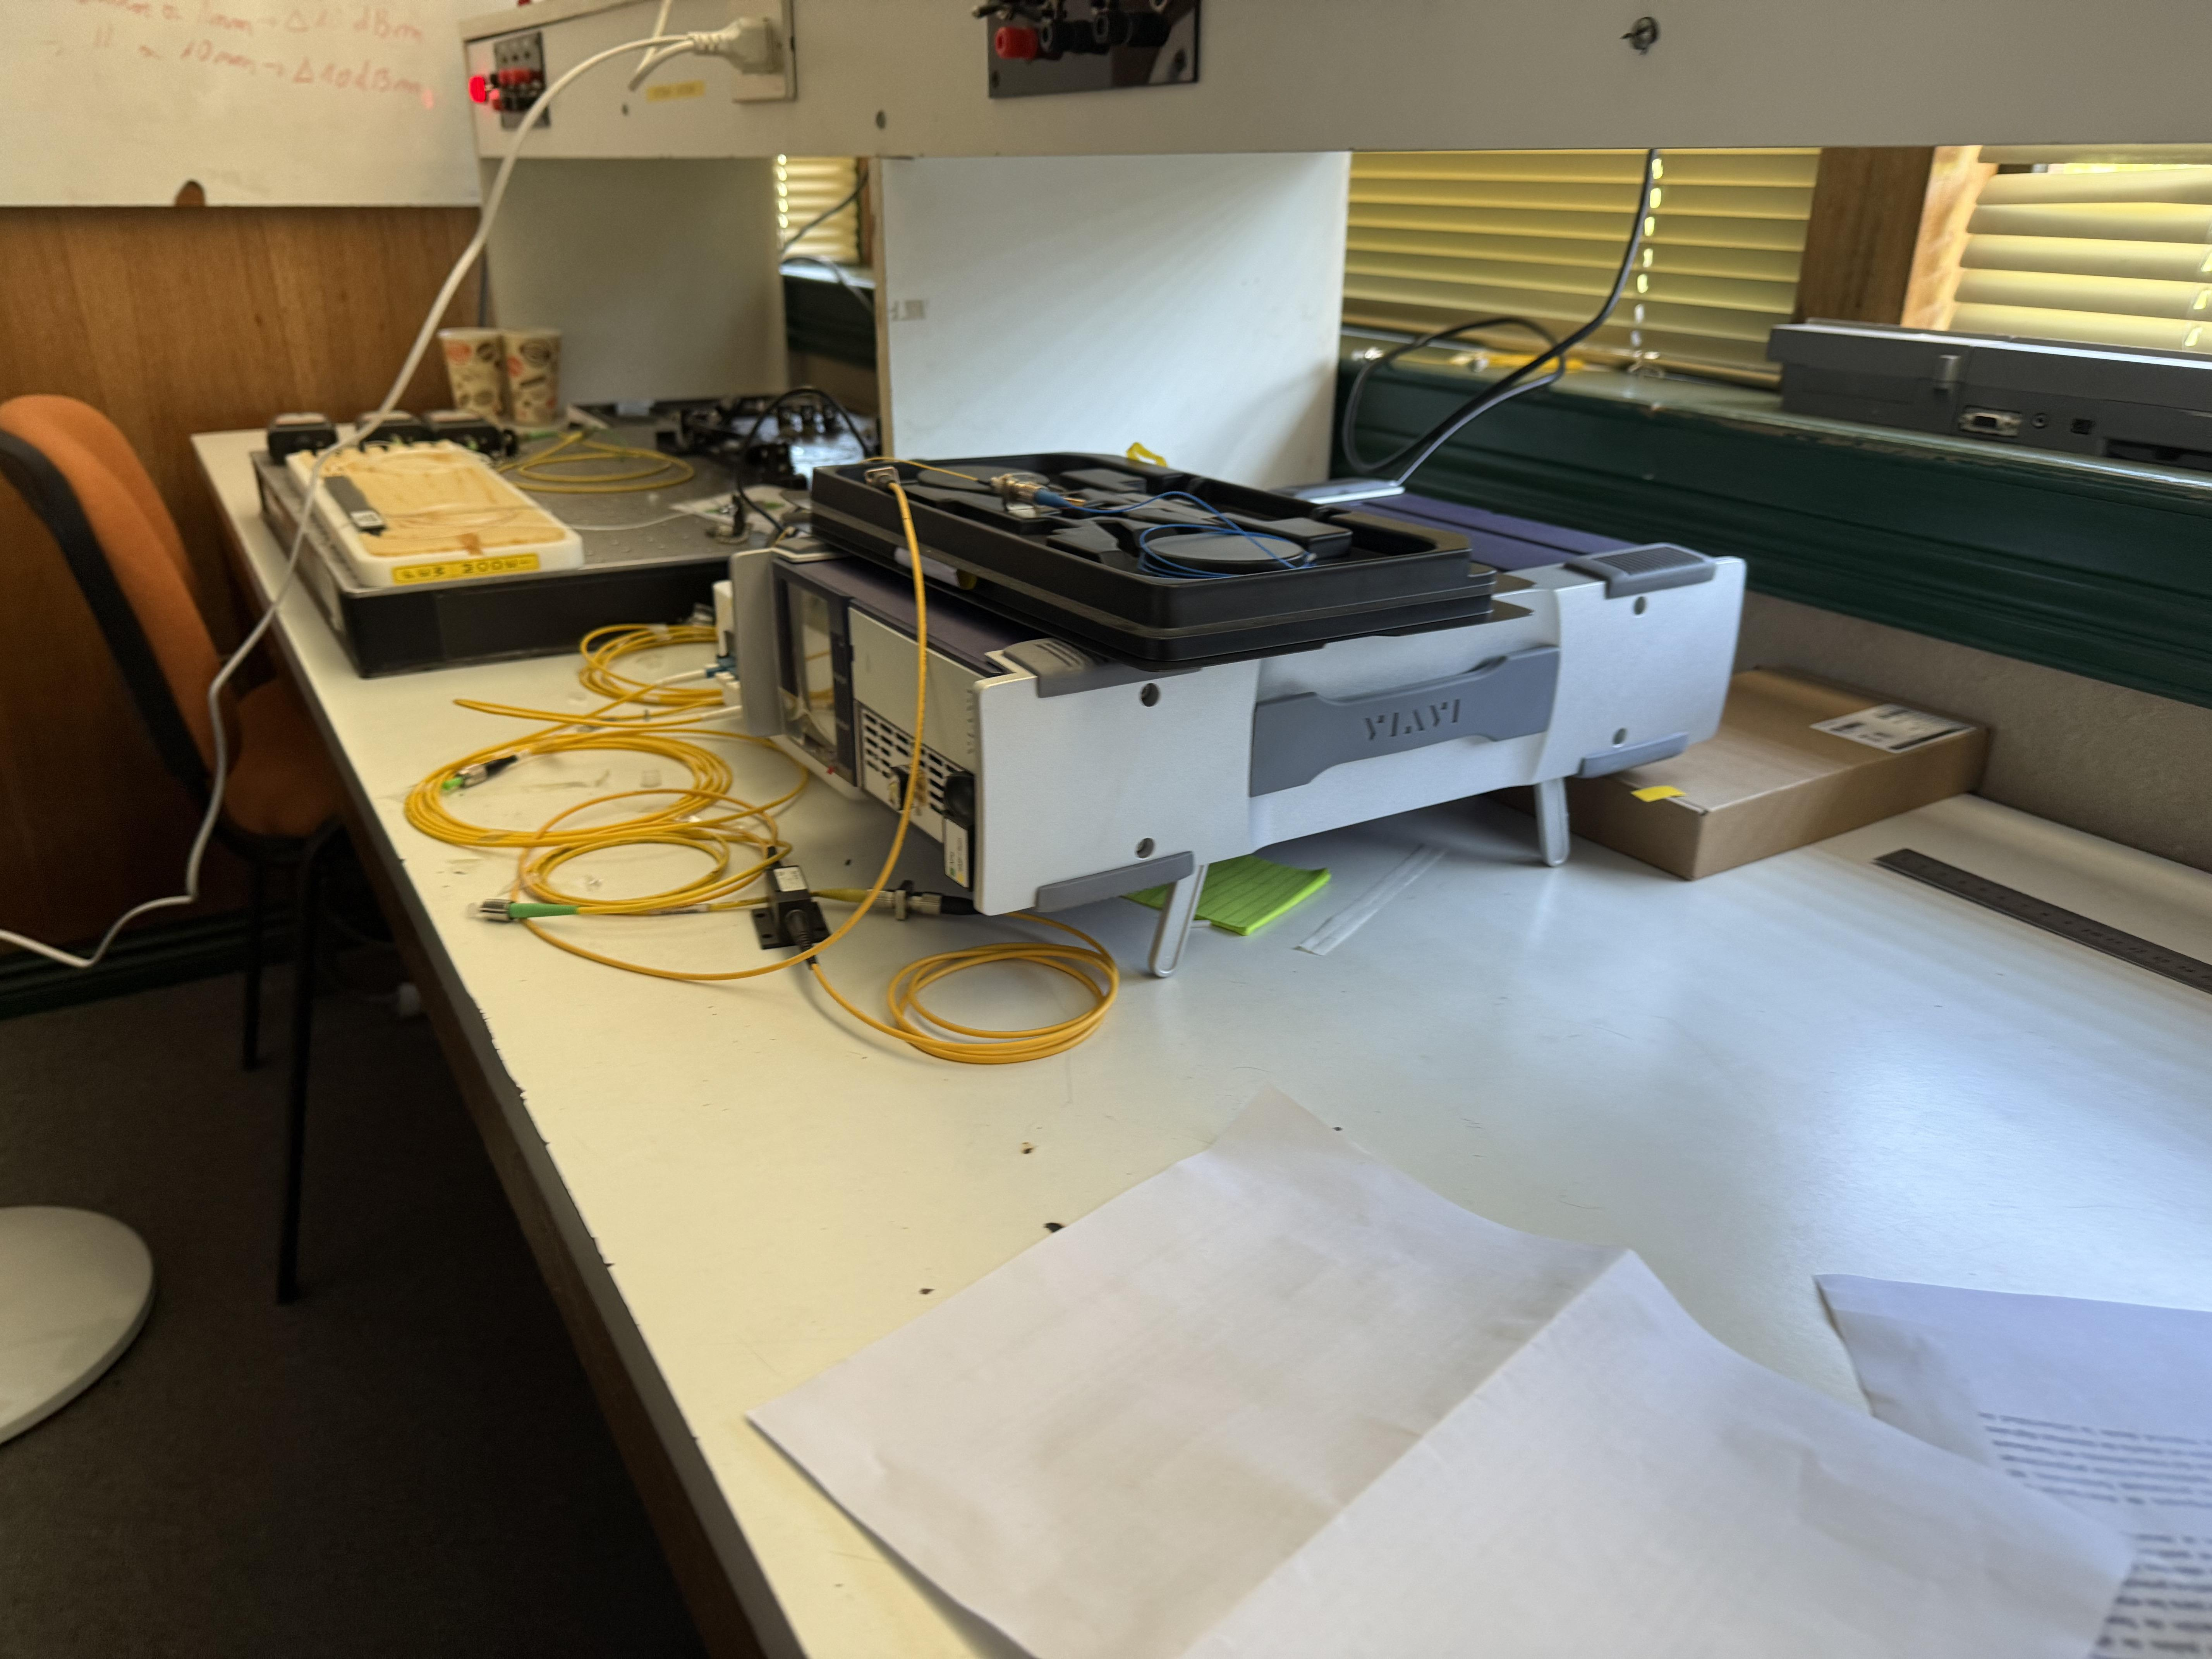laser: (720, 448, 1818, 955)
